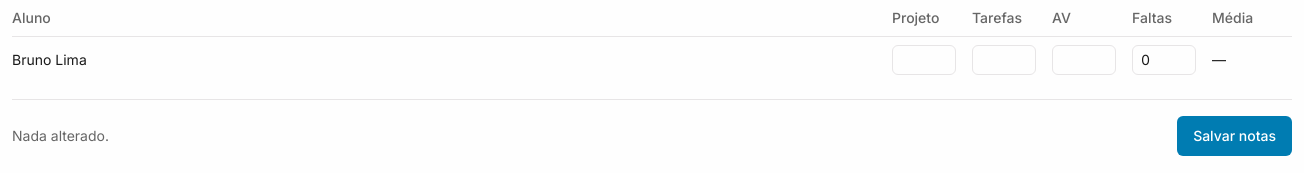
Test: GradeDeNotas › mostra a média enquanto o professor digita
Type "6" into the field named "Projeto de Bruno Lima". click: (924,60)
box: [892, 45, 956, 75]
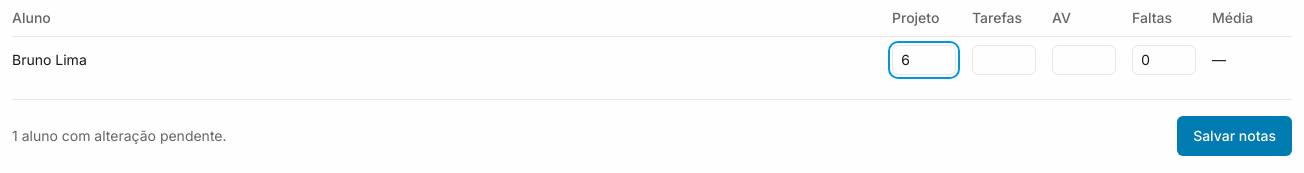
Type "7" into the field named "Tarefas de Bruno Lima". click: (1004,60)
box: [972, 45, 1036, 75]
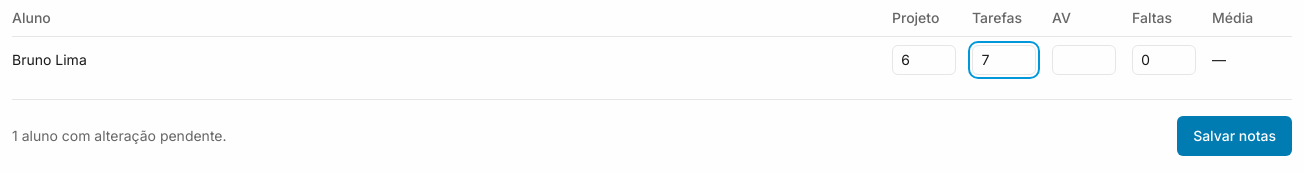
Expected: the text "—" is shown, [1212, 37, 1292, 83]
Type "8" into the field named "AV de Bruno Lima". click: (1084,60)
box: [1052, 45, 1116, 75]
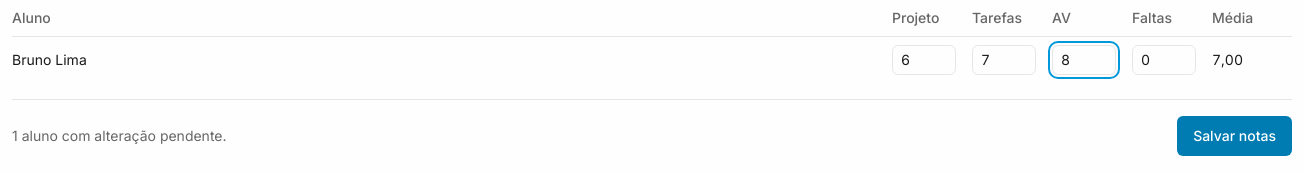
Now the text "7,00" is shown, box [1212, 37, 1292, 83]
